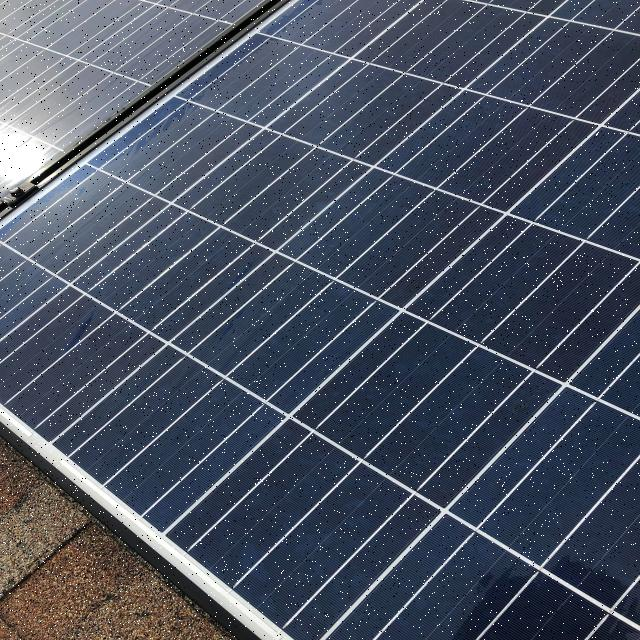clean: (0, 1, 249, 183)
